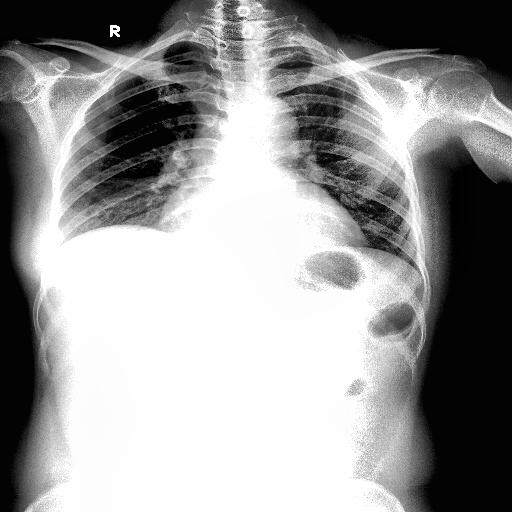0- Aortic enlargement: (242, 98, 299, 150)
3- Cardiomegaly: (156, 189, 374, 258), (156, 185, 366, 247), (156, 210, 370, 256)
7- Lung Opacity: (268, 48, 414, 214)
